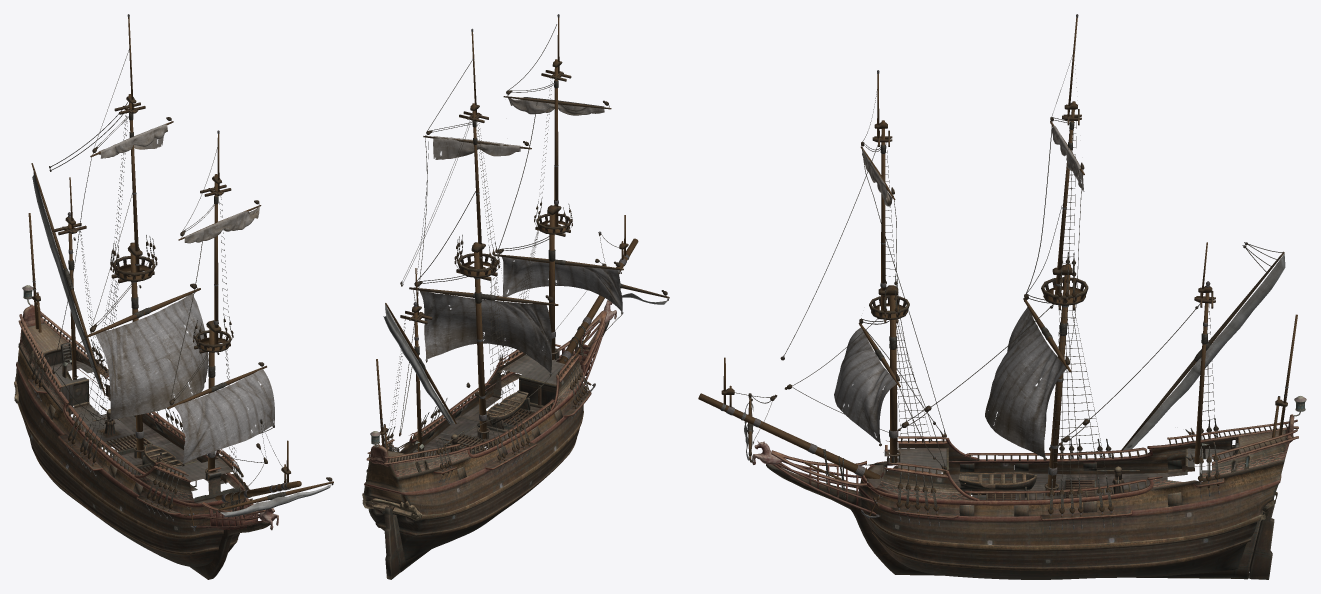
The model's file is dutch_ship_lower_hold.glb.
The picture shows the model from 3 angles, left to right: view 1: azimuth 30°, elevation 25°; view 2: azimuth 150°, elevation 25°; view 3: azimuth 270°, elevation 25°; orthographic projection. The views are drawn at different scales.
Visible parts, largest first — view 1: dutch_ship_medium_hull, dutch_ship_medium_sails, dutch_ship_medium_rigging; view 2: dutch_ship_medium_hull, dutch_ship_medium_rigging, dutch_ship_medium_sails; view 3: dutch_ship_medium_hull, dutch_ship_medium_rigging, dutch_ship_medium_sails.
Boxes of the visible parts, x1=… form: dutch_ship_medium_hull: x1=14, y1=285, x2=278, y2=579; dutch_ship_medium_sails: x1=95, y1=124, x2=274, y2=462; dutch_ship_medium_rigging: x1=28, y1=14, x2=333, y2=531; dutch_ship_medium_hull: x1=362, y1=300, x2=616, y2=579; dutch_ship_medium_rigging: x1=376, y1=14, x2=669, y2=482; dutch_ship_medium_sails: x1=420, y1=97, x2=622, y2=372; dutch_ship_medium_hull: x1=752, y1=396, x2=1306, y2=579; dutch_ship_medium_rigging: x1=698, y1=14, x2=1297, y2=529; dutch_ship_medium_sails: x1=834, y1=126, x2=1084, y2=457.
Bounding box in the file's own units: 6.81 × 24.66 × 24.07.
3 materials, 3 textured.
